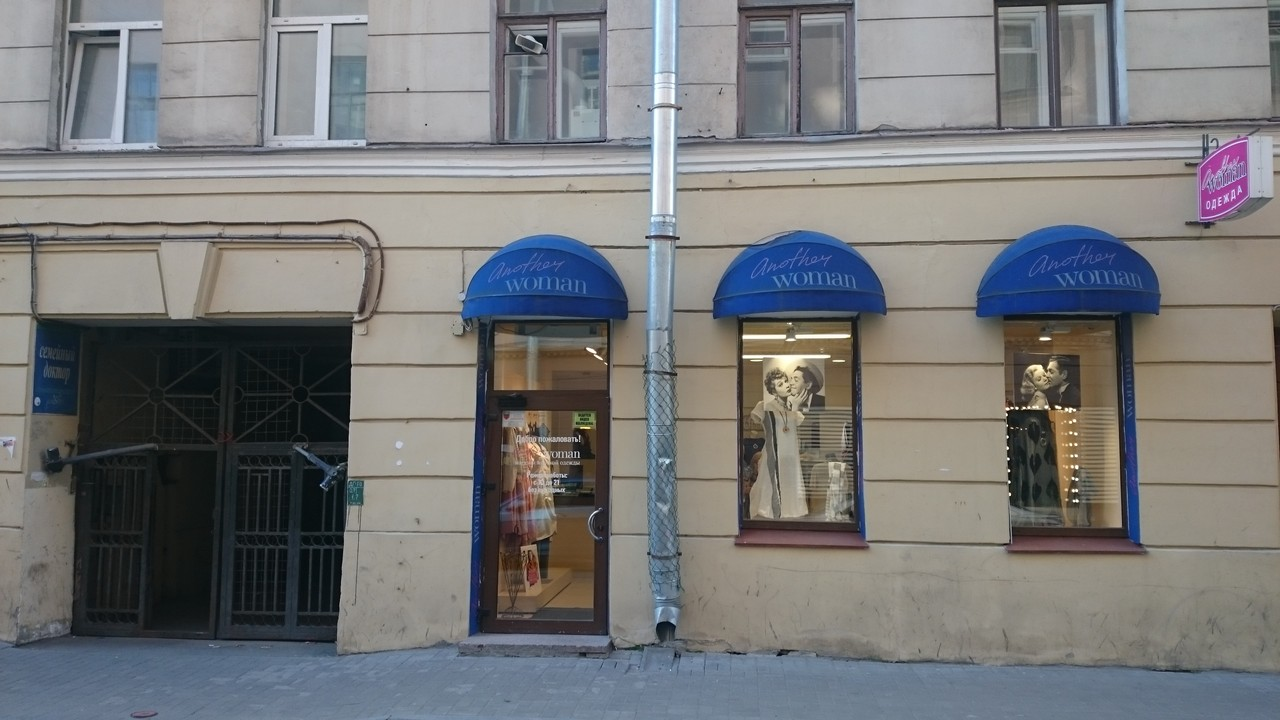arch: (48, 314, 357, 651)
cantilever: (1185, 126, 1276, 236)
door: (479, 394, 610, 635)
window: (1003, 315, 1129, 539), (739, 319, 860, 535), (740, 1, 859, 138), (498, 1, 606, 147), (59, 1, 165, 148), (998, 1, 1119, 129), (264, 1, 370, 146)
